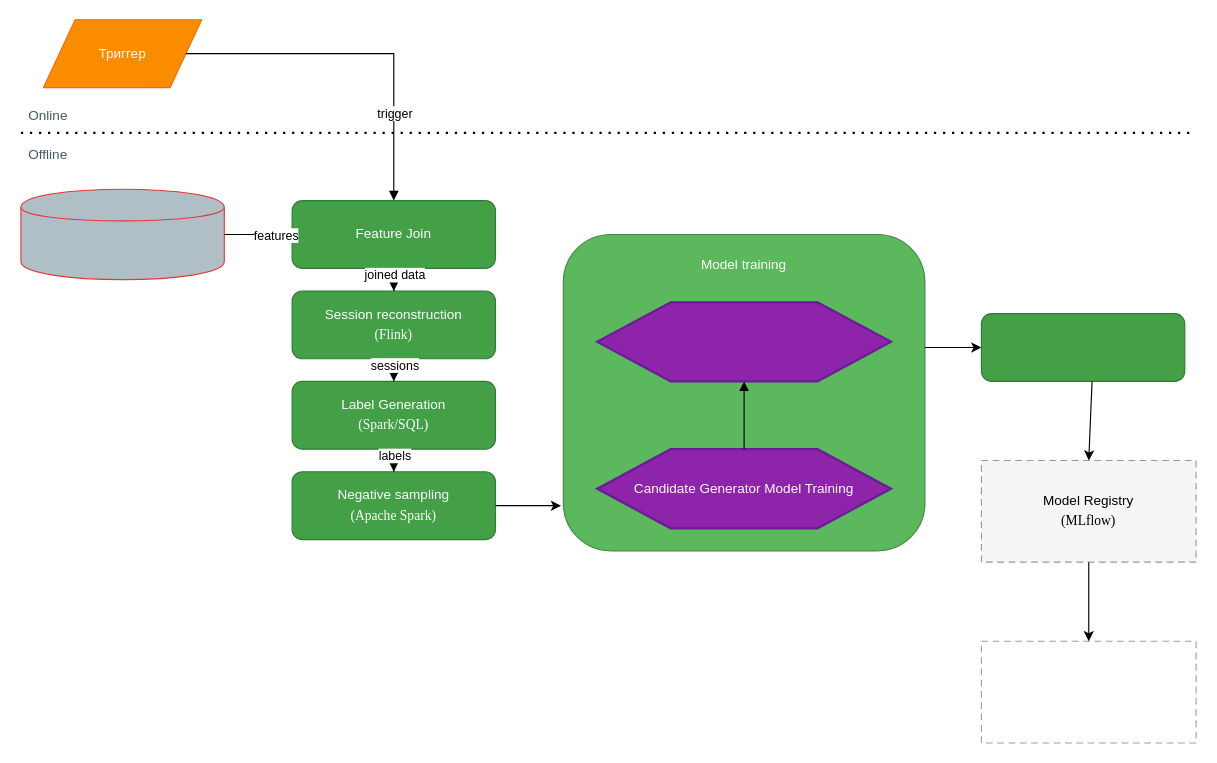
Some shapes in this 1217 by 763 pixel diagram are drawn without their labels. The centre of each missing label's shape, as x and y in pixels:
"Canary deployment (Argo Rollouts)" goes at pixel 1088 691.
"Data Lake (S3 / HDFS)" goes at pixel 122 234.
"Offline evaluation" goes at pixel 1082 346.
"Ranking Model Training" goes at pixel 744 341.
